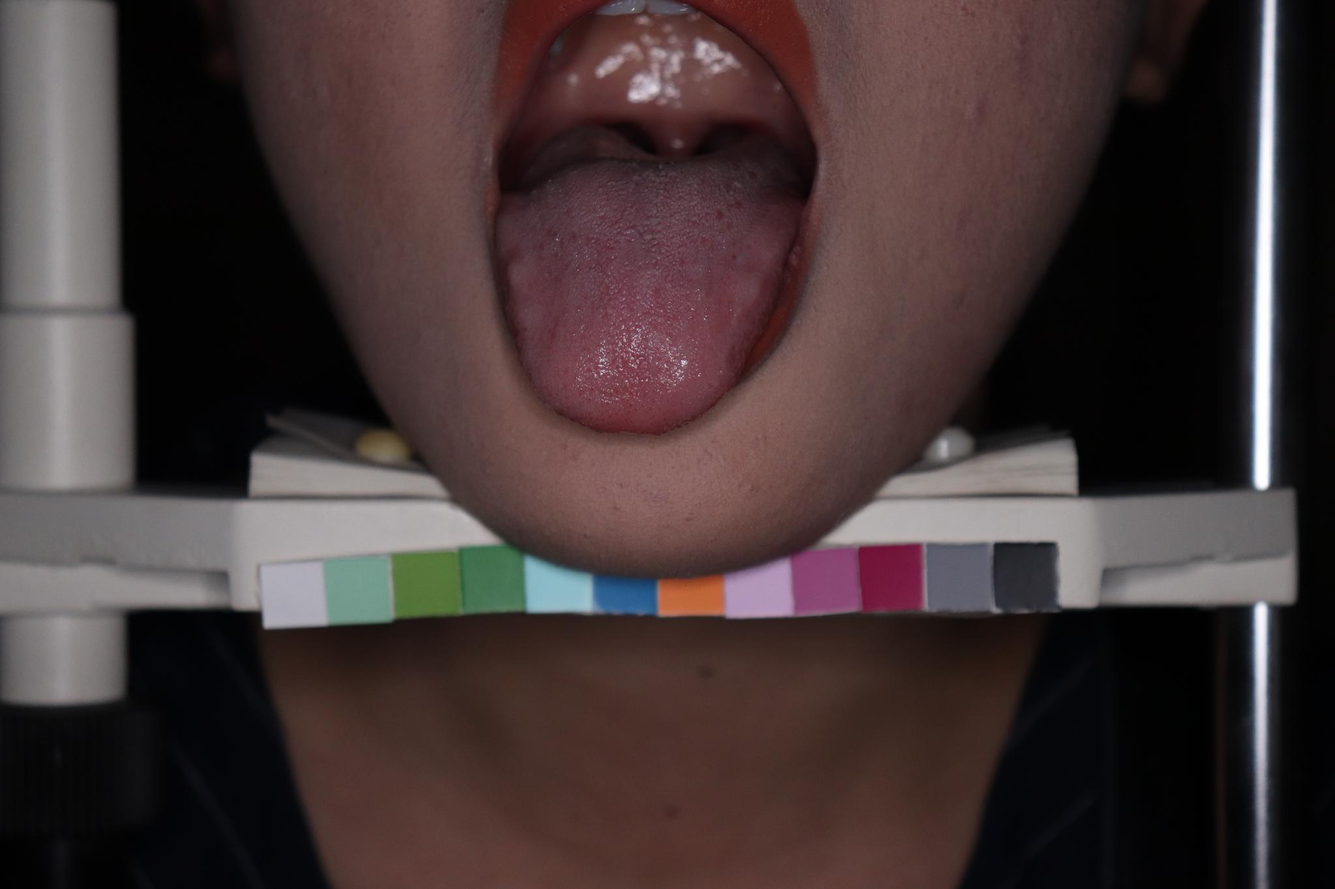baitaishe: (495, 126, 804, 435)
gandanao: (594, 126, 761, 176)
